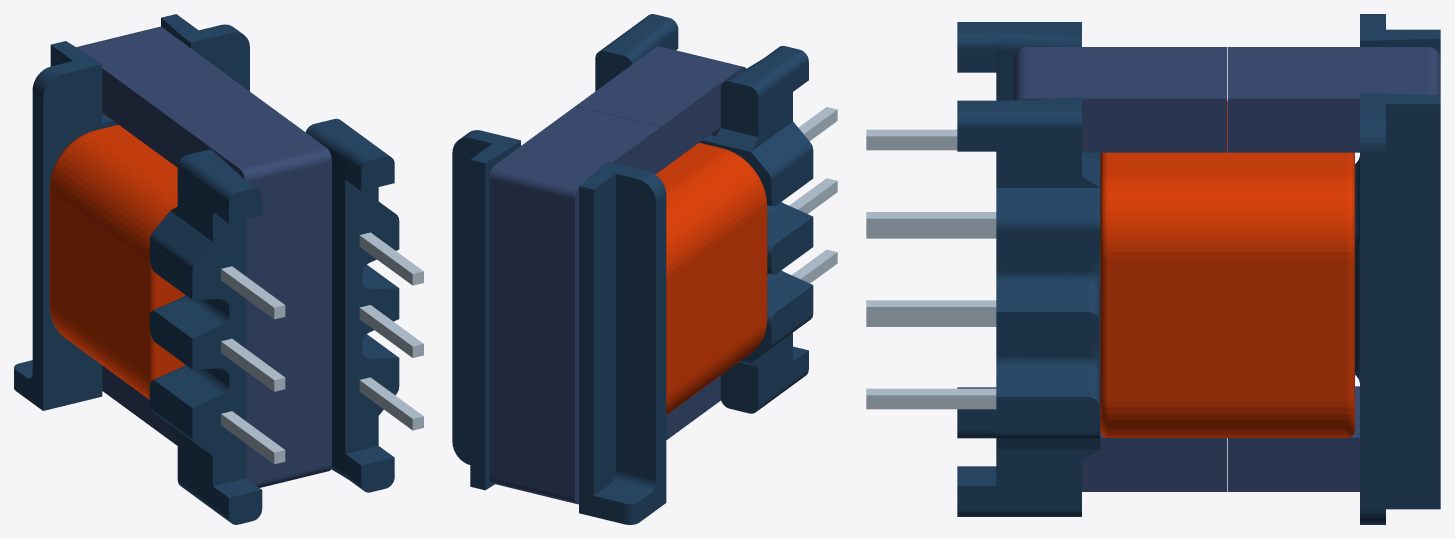
The model's file is transformer_colored.glb.
3 views of the same model, side by side, from view 1: azimuth 30°, elevation 25°; view 2: azimuth 150°, elevation 25°; view 3: azimuth 270°, elevation 25° (orthographic). The views are drawn at different scales.
Parts seen in each view (by area): view 1: core_dark, core_body, winding_copper, pins_silver; view 2: core_dark, core_body, winding_copper, pins_silver; view 3: core_dark, winding_copper, core_body, pins_silver.
Boxes of the visible parts, bbox=[...] form: core_dark: bbox=[14, 14, 399, 524]; core_body: bbox=[76, 26, 331, 487]; winding_copper: bbox=[49, 124, 185, 399]; pins_silver: bbox=[221, 232, 423, 464]; core_dark: bbox=[452, 14, 813, 524]; core_body: bbox=[489, 46, 745, 504]; winding_copper: bbox=[655, 142, 767, 414]; pins_silver: bbox=[789, 107, 837, 283]; core_dark: bbox=[957, 14, 1440, 524]; winding_copper: bbox=[1100, 101, 1354, 437]; core_body: bbox=[1014, 47, 1440, 491]; pins_silver: bbox=[866, 129, 996, 409].
Bounding box in the file's own units: 0.0112 × 0.0172 × 0.0221.
